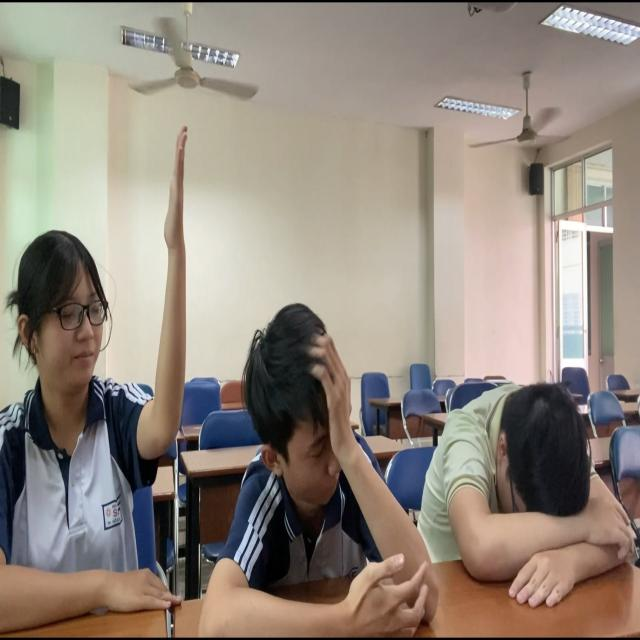raise_hand: (1, 119, 202, 619)
sleep: (411, 367, 640, 596)
